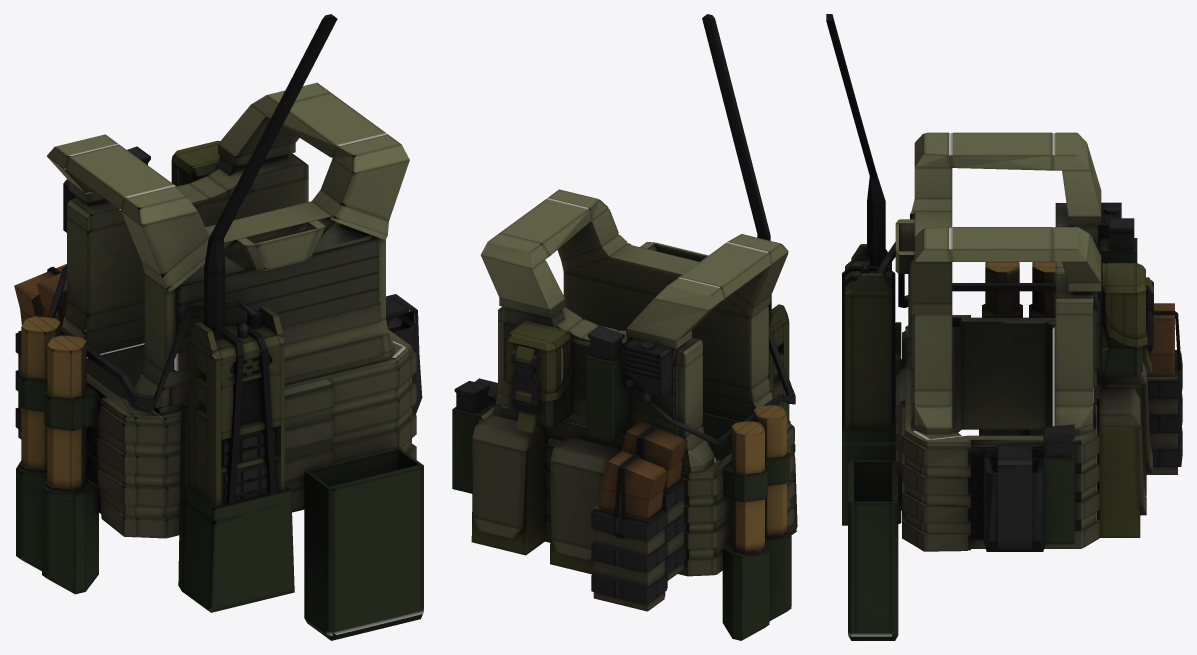
File: testvest.obj
3 renders of one model, left to right at view 1: azimuth 30°, elevation 25°; view 2: azimuth 150°, elevation 25°; view 3: azimuth 270°, elevation 25°, orthographic. The views are drawn at different scales.
Parts seen in each view (by area): view 1: bodyModel558, bodyModel507, bodyModel17, bodyModel69, bodyModel91, bodyModel89, bodyModel67, bodyModel391, bodyModel555, bodyModel110, bodyModel63, bodyModel56 (+71 smaller); view 2: bodyModel62, bodyModel267, bodyModel63, bodyModel263, bodyModel314, bodyModel265, bodyModel244, bodyModel91, bodyModel41, bodyModel69, bodyModel340, bodyModel17 (+52 smaller); view 3: bodyModel32, bodyModel461, bodyModel556, bodyModel265, bodyModel69, bodyModel91, bodyModel323, bodyModel17, bodyModel62, bodyModel394, bodyModel335, bodyModel3 (+54 smaller).
Part boxes in pixels (x1,y1,x2,y2): bodyModel558: [330, 465, 422, 635]; bodyModel507: [182, 500, 294, 612]; bodyModel17: [67, 178, 308, 315]; bodyModel69: [65, 144, 175, 209]; bodyModel91: [282, 93, 387, 158]; bodyModel89: [320, 155, 409, 220]; bodyModel67: [121, 207, 209, 276]; bodyModel391: [42, 479, 75, 593]; bodyModel555: [306, 471, 328, 633]; bodyModel110: [161, 359, 397, 518]; bodyModel63: [161, 201, 375, 286]; bodyModel56: [177, 239, 378, 304]; bodyModel62: [563, 272, 768, 389]; bodyModel267: [472, 439, 526, 529]; bodyModel63: [564, 244, 750, 317]; bodyModel263: [550, 461, 603, 548]; bodyModel314: [586, 353, 629, 442]; bodyModel265: [471, 439, 544, 555]; bodyModel244: [593, 505, 665, 611]; bodyModel91: [499, 198, 591, 255]; bodyModel41: [481, 255, 564, 309]; bodyModel69: [679, 242, 771, 298]; bodyModel340: [741, 543, 769, 640]; bodyModel17: [498, 320, 702, 437]; bodyModel32: [961, 317, 1055, 429]; bodyModel461: [851, 295, 891, 429]; bodyModel556: [854, 501, 891, 636]; bodyModel265: [1099, 427, 1140, 537]; bodyModel69: [949, 132, 1052, 170]; bodyModel91: [949, 227, 1052, 261]; bodyModel323: [997, 465, 1032, 548]; bodyModel17: [1055, 314, 1093, 390]; bodyModel62: [914, 314, 952, 390]; bodyModel394: [1043, 443, 1074, 544]; bodyModel335: [986, 472, 1043, 551]; bodyModel3: [1062, 144, 1101, 216].
Size of the model in its own units: 12.53 by 20.4 by 11.37.
